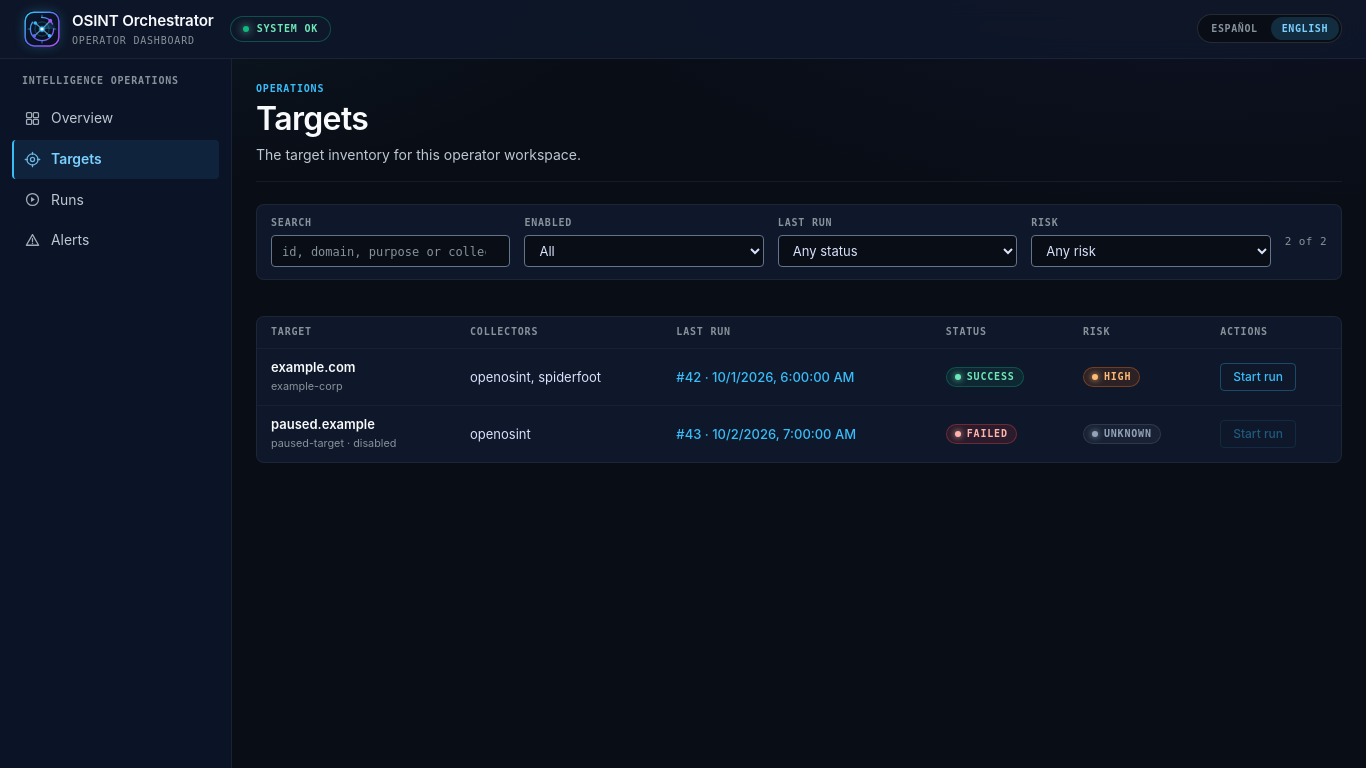
Scenario: App shell › falls back to a generic sentence with the code for a status outside the map
The width and height of the screenshot is (1366, 768).
Expected: the table is shown, [256,316,1342,463]
Click the button named "start run for example-corp".
click(1258, 377)  # box [1220,363,1296,391]
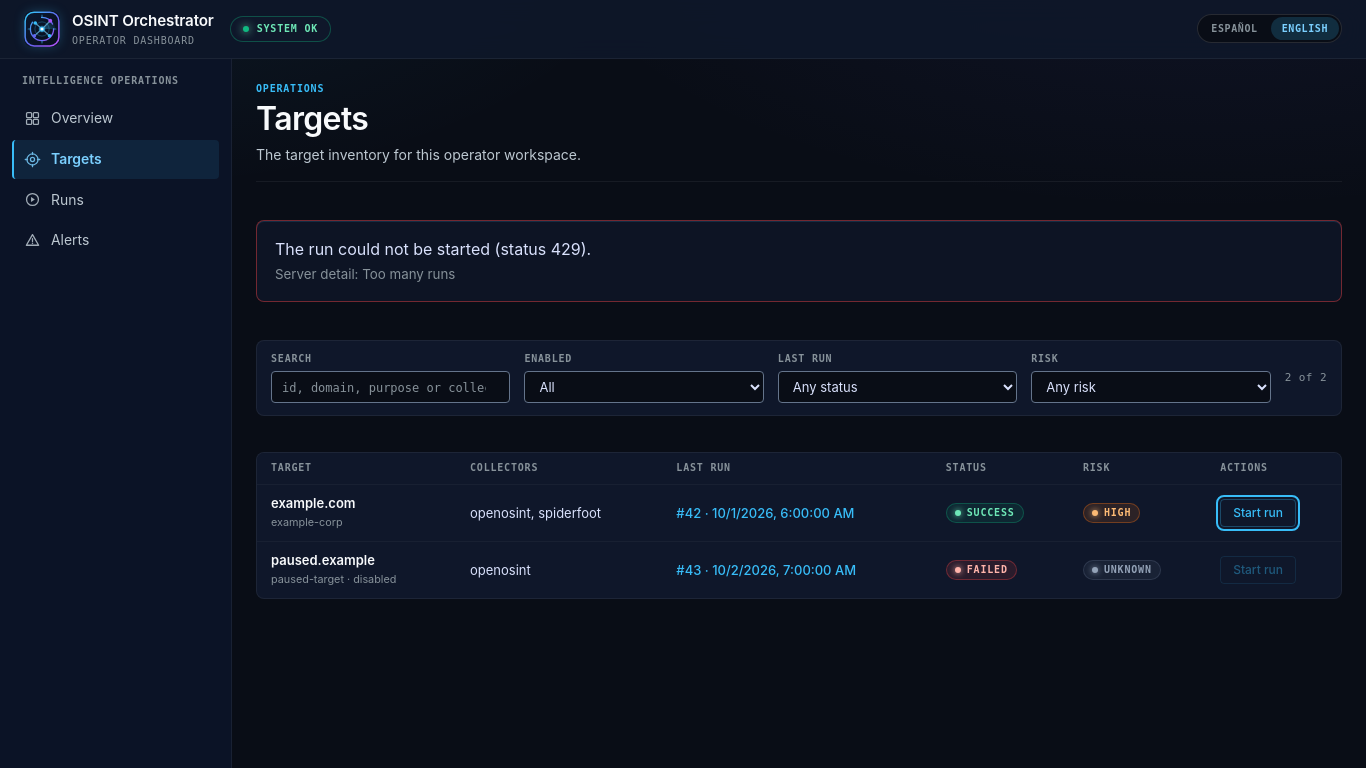
Expected: the message "The run could not be started (status 429).Server detail: Too many runs" is shown, [256,220,1342,302]
